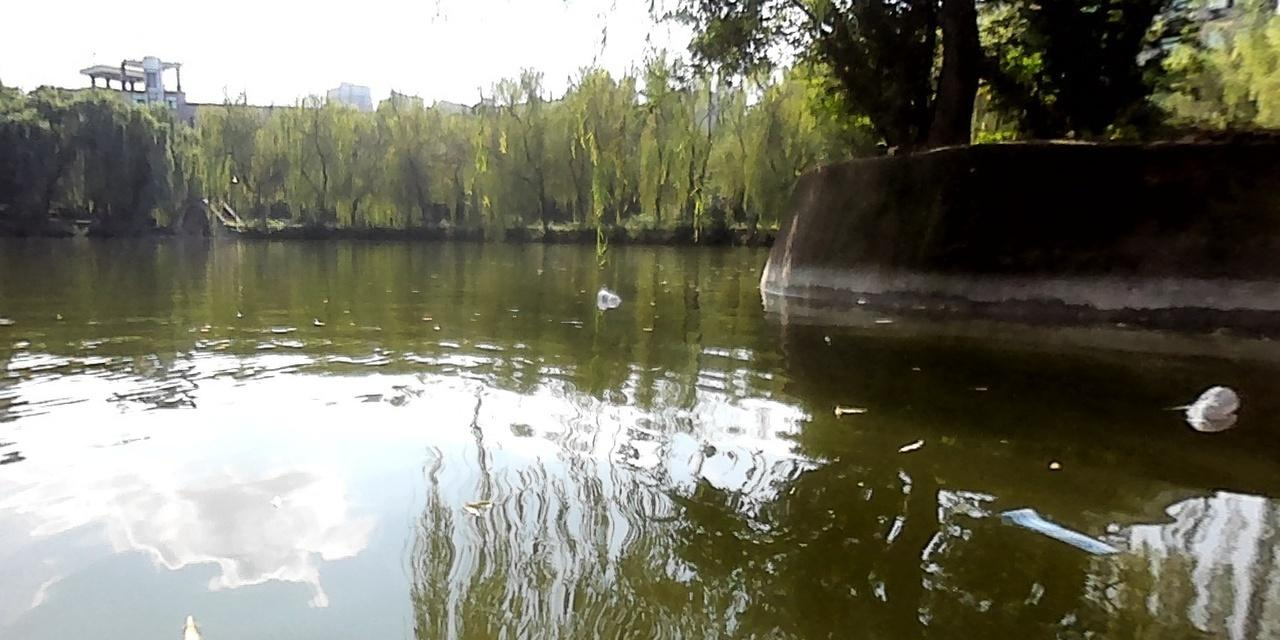bottle: (1175, 381, 1244, 426), (593, 286, 625, 306)
